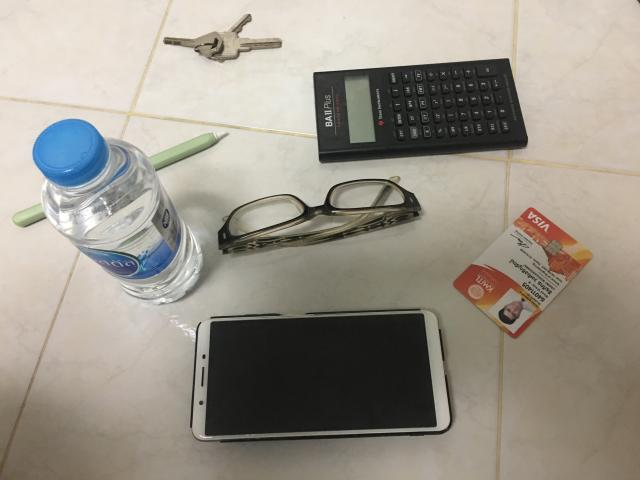Glasses: (219, 179, 421, 254)
Keys: (164, 14, 282, 63)
Mobile phone: (191, 310, 451, 441)
bottle: (32, 119, 202, 302)
